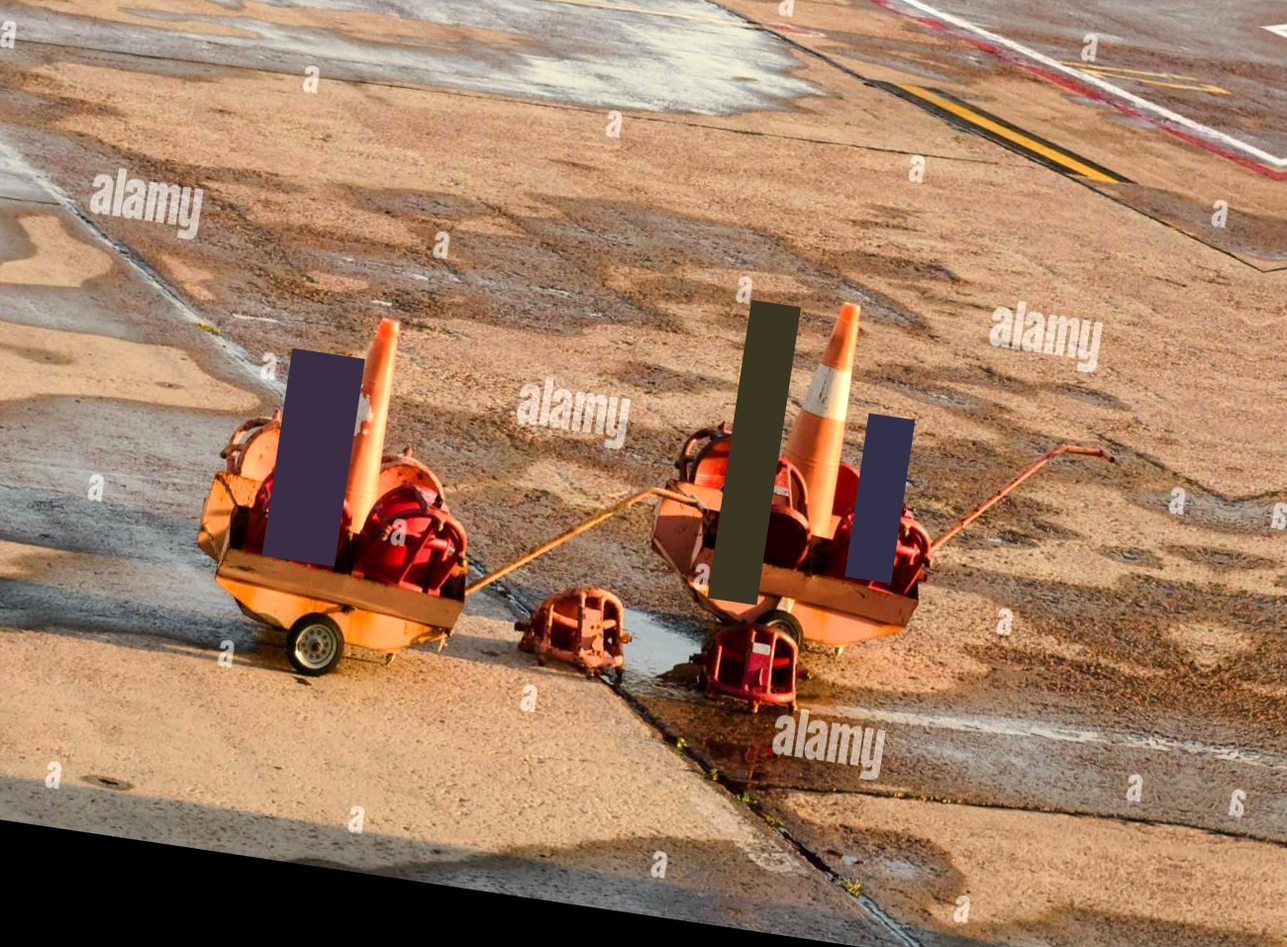chock: (352, 471, 479, 600), (508, 573, 648, 688), (244, 448, 363, 574), (706, 448, 826, 572), (827, 492, 939, 602), (691, 613, 809, 713), (219, 402, 330, 491), (673, 412, 778, 502), (371, 445, 459, 531), (832, 454, 882, 518)
wheel: (279, 608, 350, 683), (744, 604, 811, 668)
